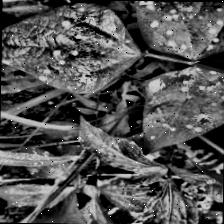Bean Rust: (0, 2, 140, 94), (143, 62, 224, 146), (130, 0, 224, 58), (0, 49, 44, 95)
